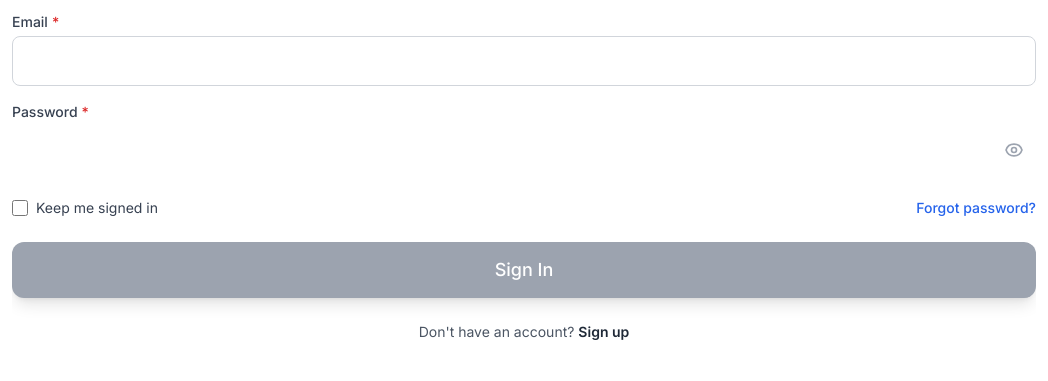
Test: LoginForm › shows validation error when password is empty on submit
The image size is (1048, 381).
Type "test@example.com" into the field labelled "Email*" at (524, 61), box [12, 36, 1036, 86]
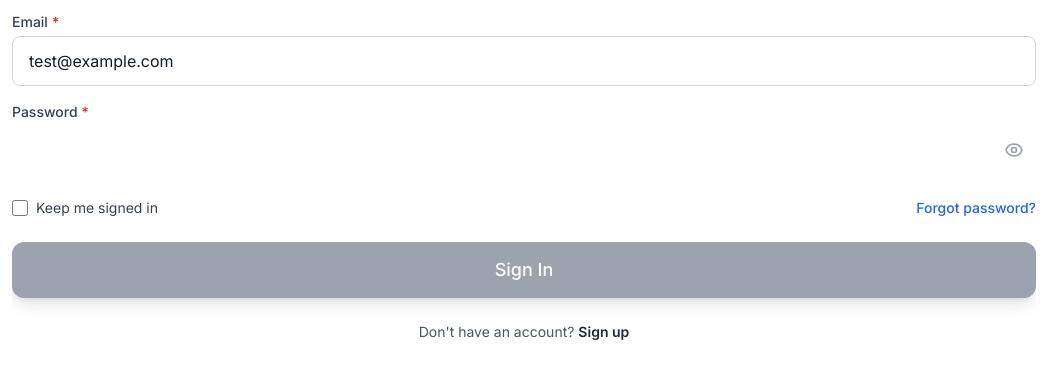
Submit the form
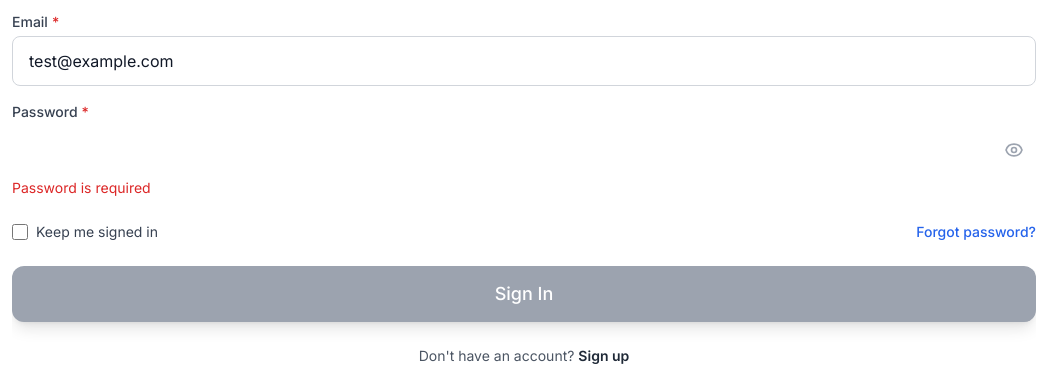
Expected: the text "Password is required" is shown, [12, 179, 151, 196]
